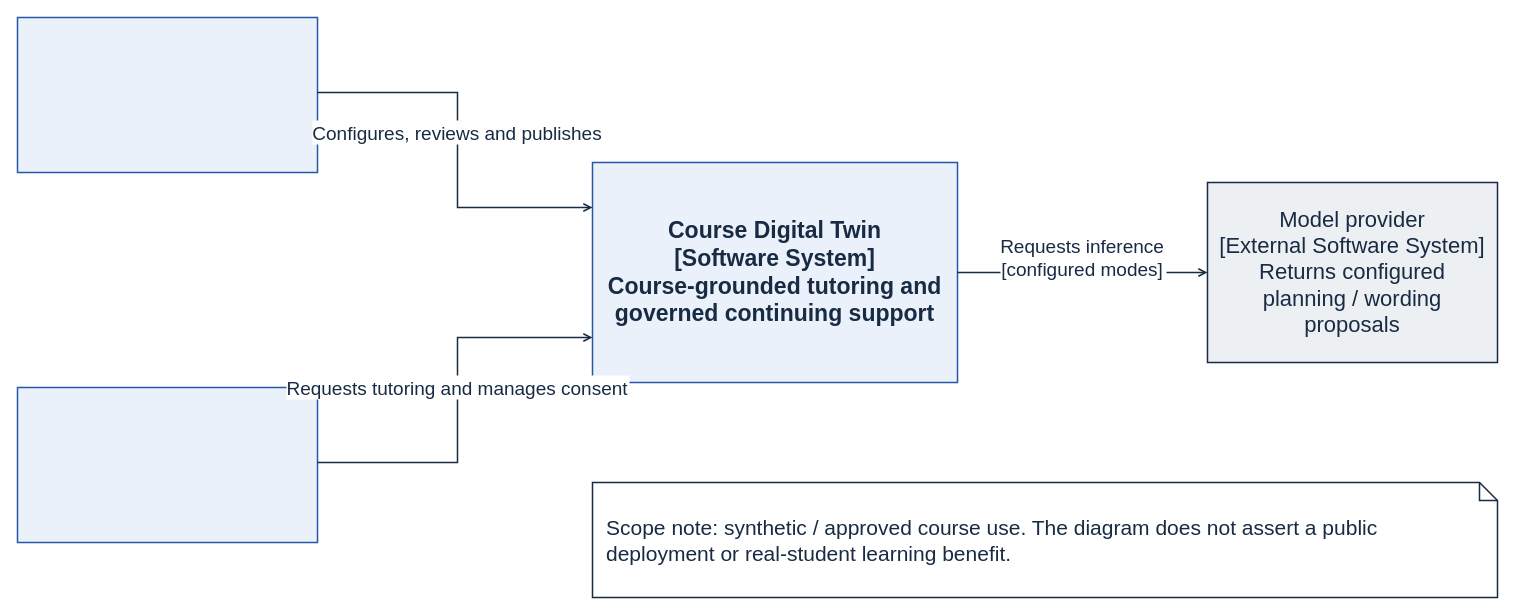
Image size: 1516x616. Some labels were removed from this diagram. Here are the shapes that lost their labels. From the top down, the centre of each, then its label:
[167,94]: Professor [Person] Configures and approves teaching
[167,464]: Student [Person] Asks questions and uses support
